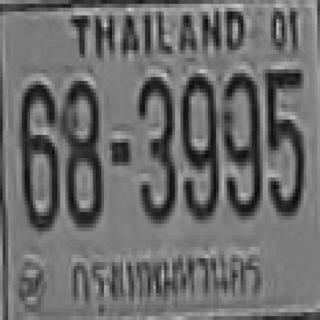N00: (222, 70, 260, 216)
N03: (137, 73, 175, 220)
N05: (262, 67, 304, 214)
N06: (17, 81, 58, 228)
N08: (60, 77, 101, 224)
N09: (179, 71, 217, 218), (222, 70, 260, 216)
P04: (64, 243, 270, 307)
